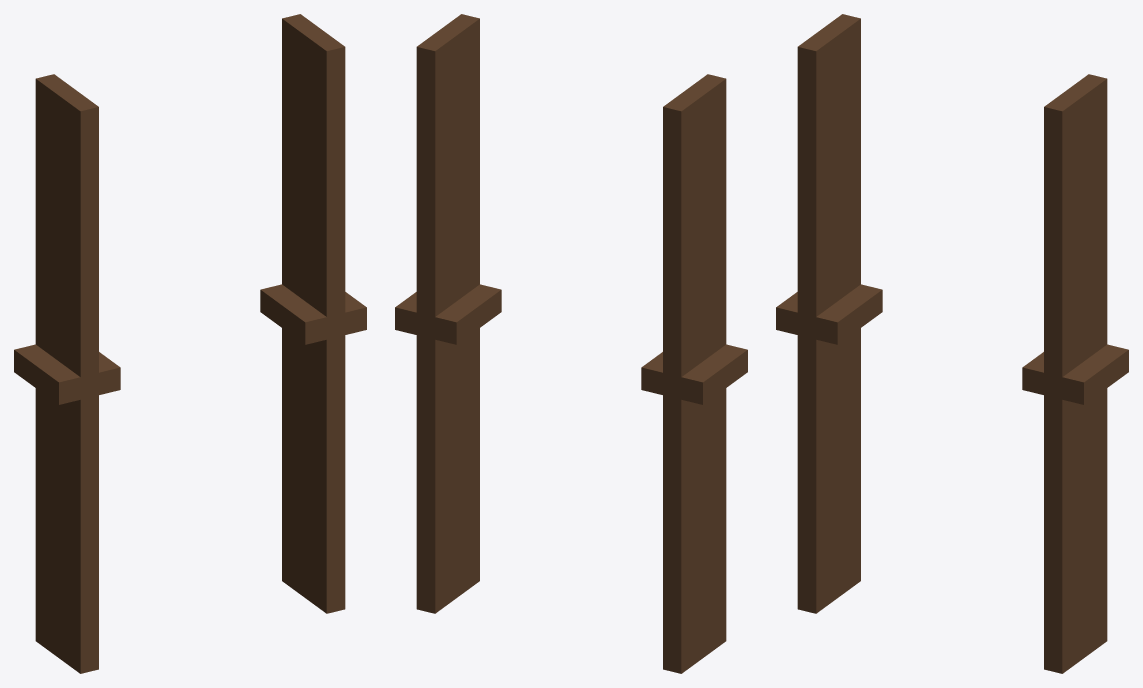
File: FrameWindow.fbx
The picture shows the model from 3 angles, left to right: view 1: azimuth 30°, elevation 25°; view 2: azimuth 150°, elevation 25°; view 3: azimuth 330°, elevation 25°; orthographic projection.
Parts seen in each view (by area): view 1: Kit_FrameWindow; view 2: Kit_FrameWindow; view 3: Kit_FrameWindow.
Part boxes in pixels (x1,y1,x2,y2): Kit_FrameWindow: (14,14,366,673); Kit_FrameWindow: (395,14,747,673); Kit_FrameWindow: (776,14,1128,673).
Bounding box in the file's own units: 1 × 1.75 × 0.252.
